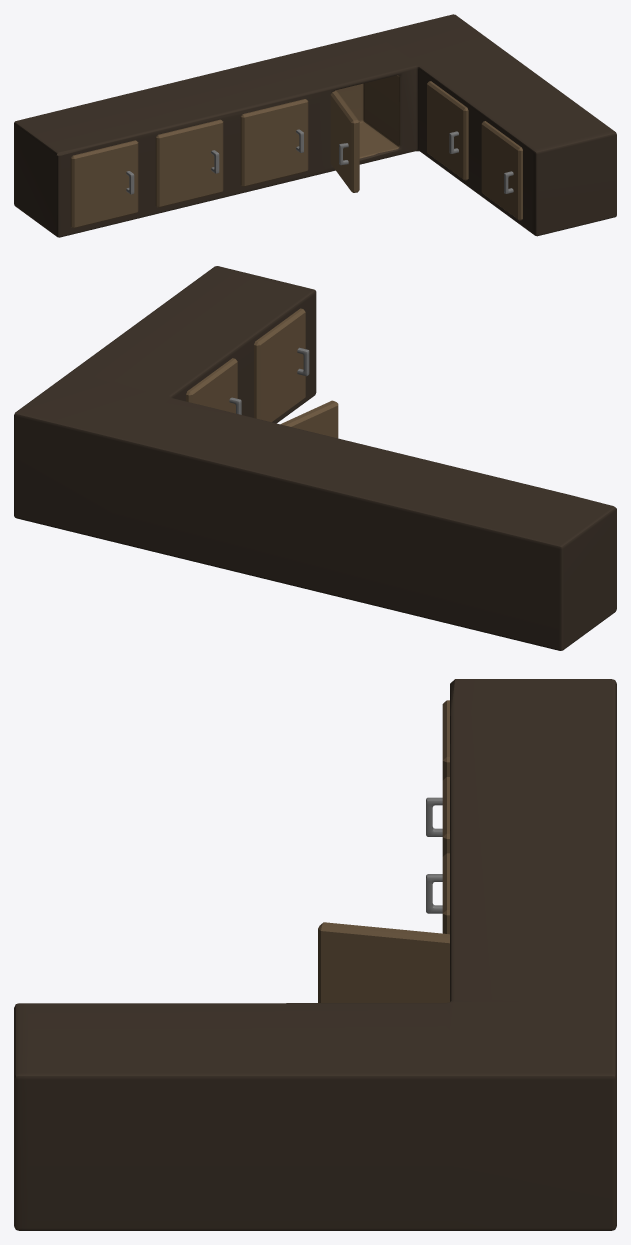
Rendered from TearoomCabinet.fbx.
3 views of the same model, one above another, from view 1: azimuth 30°, elevation 25°; view 2: azimuth 150°, elevation 25°; view 3: azimuth 270°, elevation 25° (orthographic). The views are drawn at different scales.
Visible parts, largest first — view 1: pasted__pasted__pCube9; view 2: pasted__pasted__pCube9; view 3: pasted__pasted__pCube9.
Part boxes in pixels (box(x1,y1,x2,y2)): pasted__pasted__pCube9: box(14, 14, 616, 237); pasted__pasted__pCube9: box(14, 266, 616, 650); pasted__pasted__pCube9: box(14, 679, 616, 1230).
Bounding box in the file's own units: 330 × 60.88 × 211.
